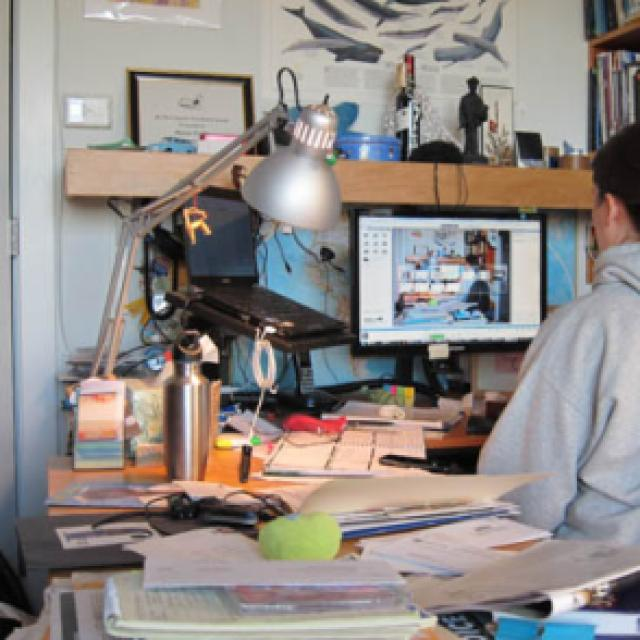mess: (87, 350, 557, 640)
